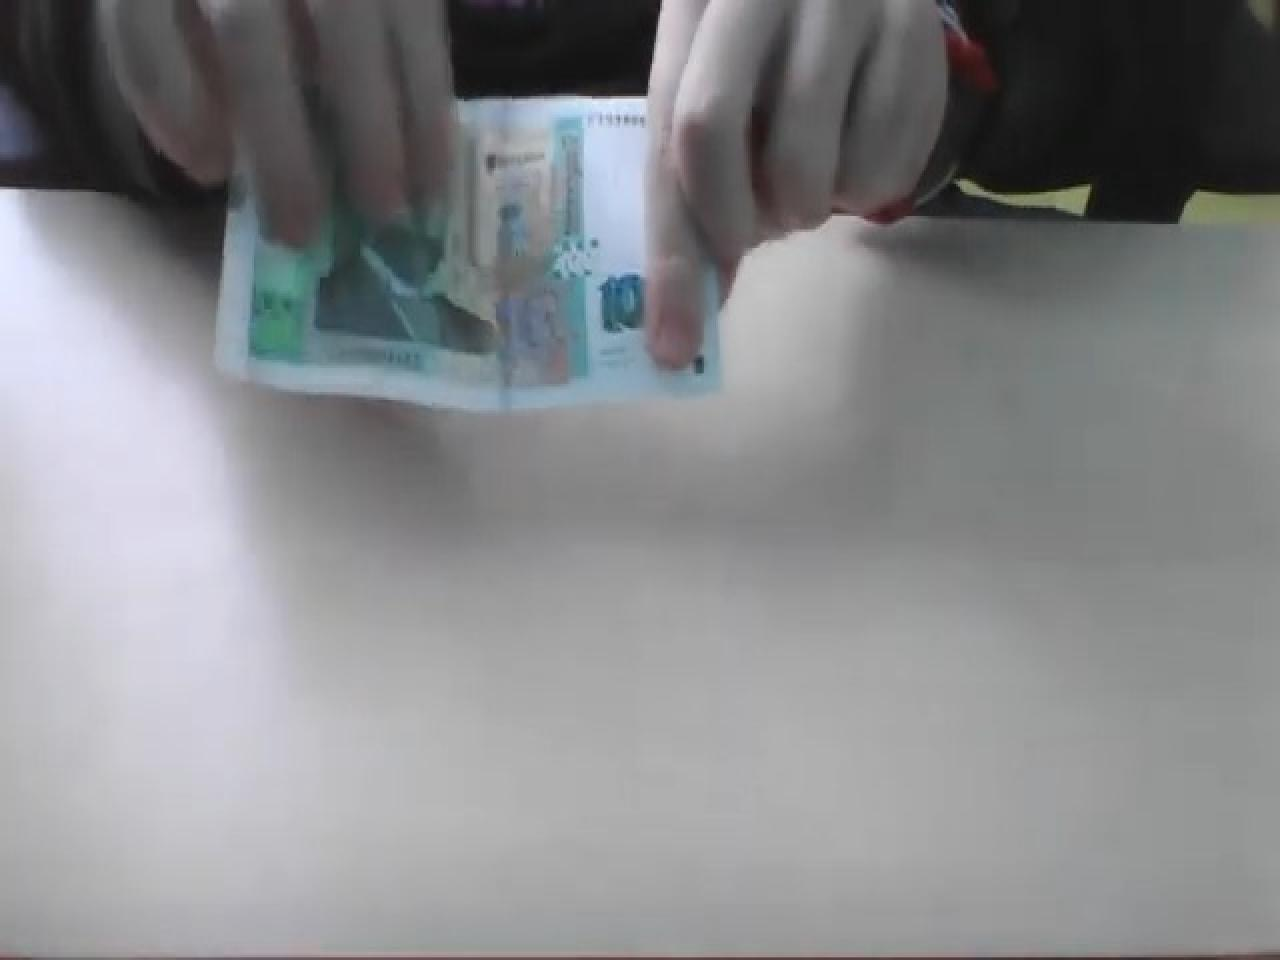100leva: (210, 88, 724, 413)
